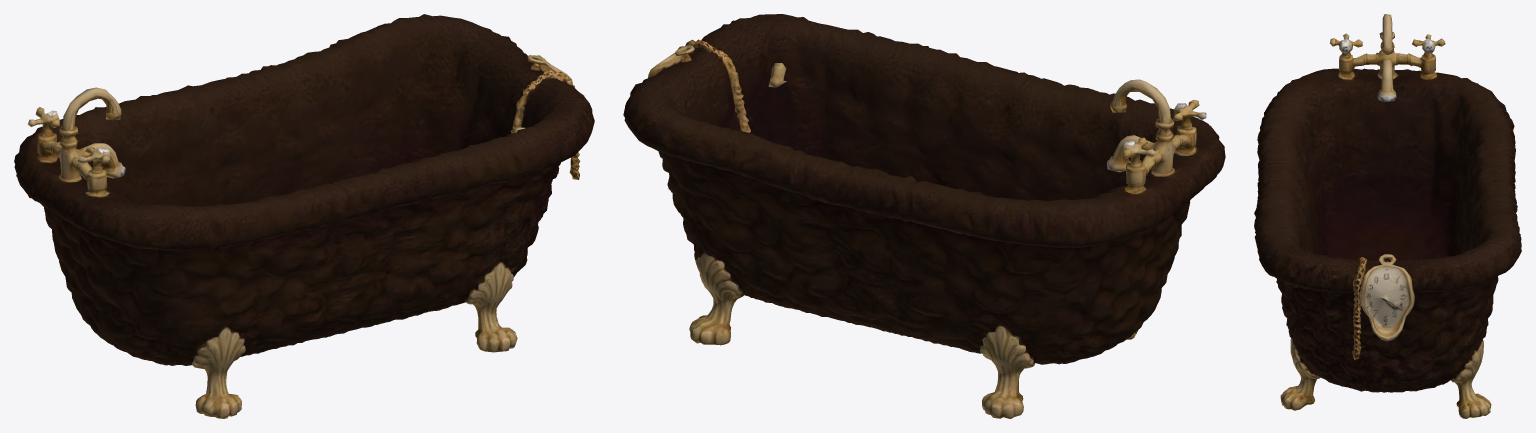
File: ts_furtub.glb
The picture shows the model from 3 angles, left to right: view 1: azimuth 30°, elevation 25°; view 2: azimuth 150°, elevation 25°; view 3: azimuth 270°, elevation 25°; orthographic projection. The views are drawn at different scales.
Visible parts, largest first — view 1: tripo_node_cd6d753a-00a0-49ac-b861-0df362eba718; view 2: tripo_node_cd6d753a-00a0-49ac-b861-0df362eba718; view 3: tripo_node_cd6d753a-00a0-49ac-b861-0df362eba718.
Part boxes in pixels (x1,y1,x2,y2): tripo_node_cd6d753a-00a0-49ac-b861-0df362eba718: [14, 14, 594, 418]; tripo_node_cd6d753a-00a0-49ac-b861-0df362eba718: [623, 14, 1225, 418]; tripo_node_cd6d753a-00a0-49ac-b861-0df362eba718: [1254, 14, 1521, 418].
Size of the model in its own units: 1 by 0.5508 by 0.5363.
Materials: 1 (1 with a texture image).
